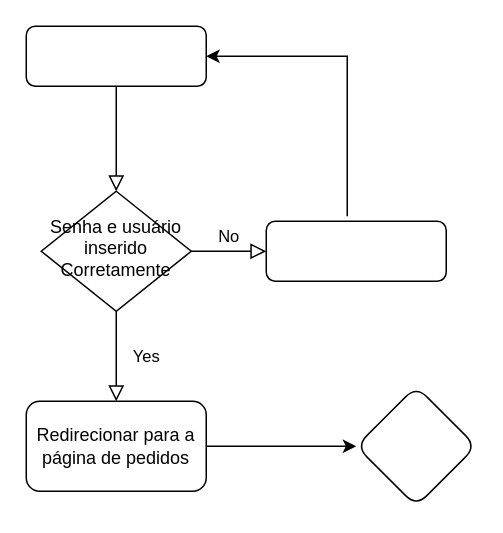
This 503x533 diagram has some shape labels left out. Here are the shapes that lost their labels. From the top down, the centre of each, then its label:
(115,55): Login do usuário
(355,250): Exibir mensagem de usuário ou senha inválido
